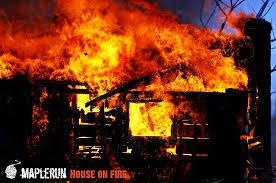fire: (7, 5, 260, 144)
